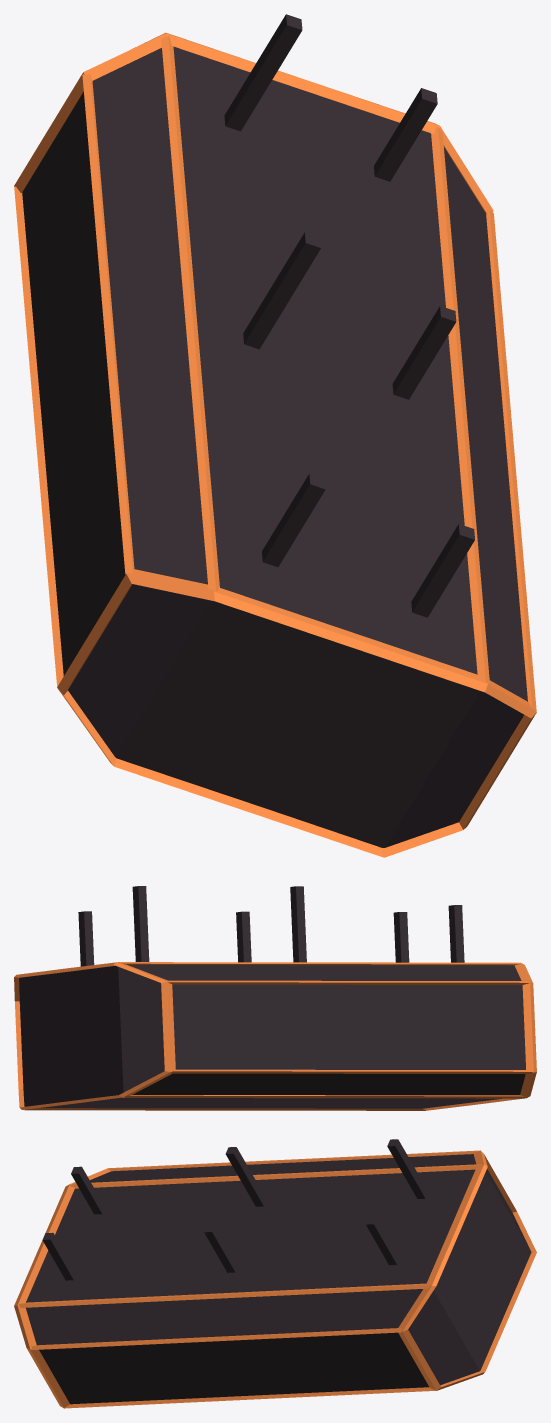
File: F2.Cargo.004.fbx
3 renders of one model, top to bottom at view 1: azimuth 30°, elevation 25°; view 2: azimuth 150°, elevation 25°; view 3: azimuth 270°, elevation 25°, orthographic. The views are drawn at different scales.
Parts seen in each view (by area): view 1: F2.Cargo.004; view 2: F2.Cargo.004; view 3: F2.Cargo.004.
Part boxes in pixels (box(x1,y1,x2,y2)): F2.Cargo.004: box(14, 14, 536, 857); F2.Cargo.004: box(14, 886, 536, 1110); F2.Cargo.004: box(14, 1139, 536, 1408).
Bounding box in the file's own units: 1816 × 1461 × 2238.
